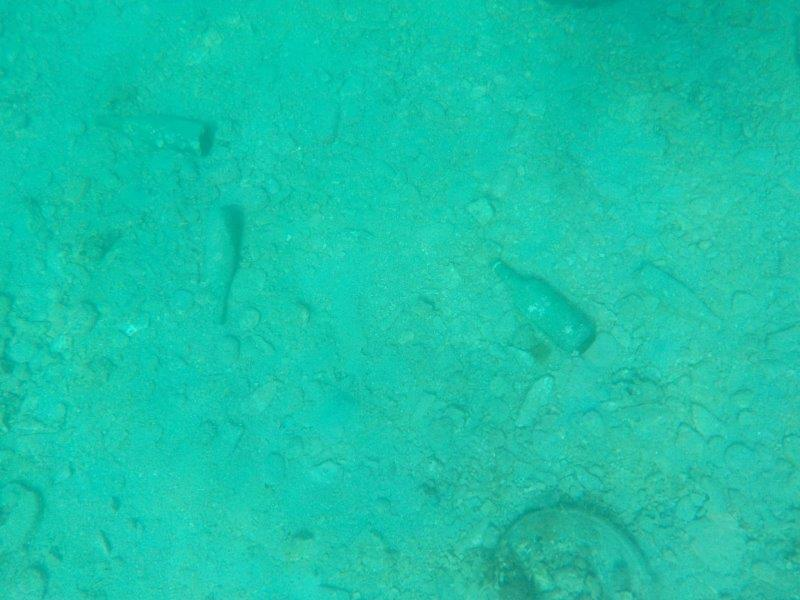bottle: (486, 255, 600, 363), (82, 105, 214, 159), (631, 261, 726, 334), (195, 200, 247, 328)
tire: (482, 502, 656, 600)
